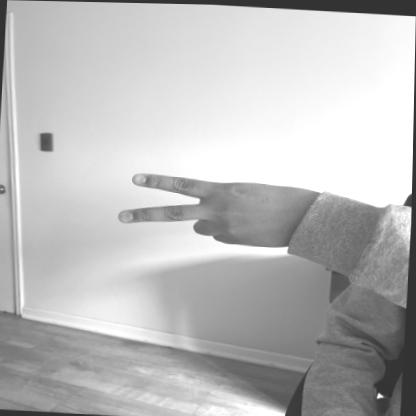H: (114, 164, 327, 256)
